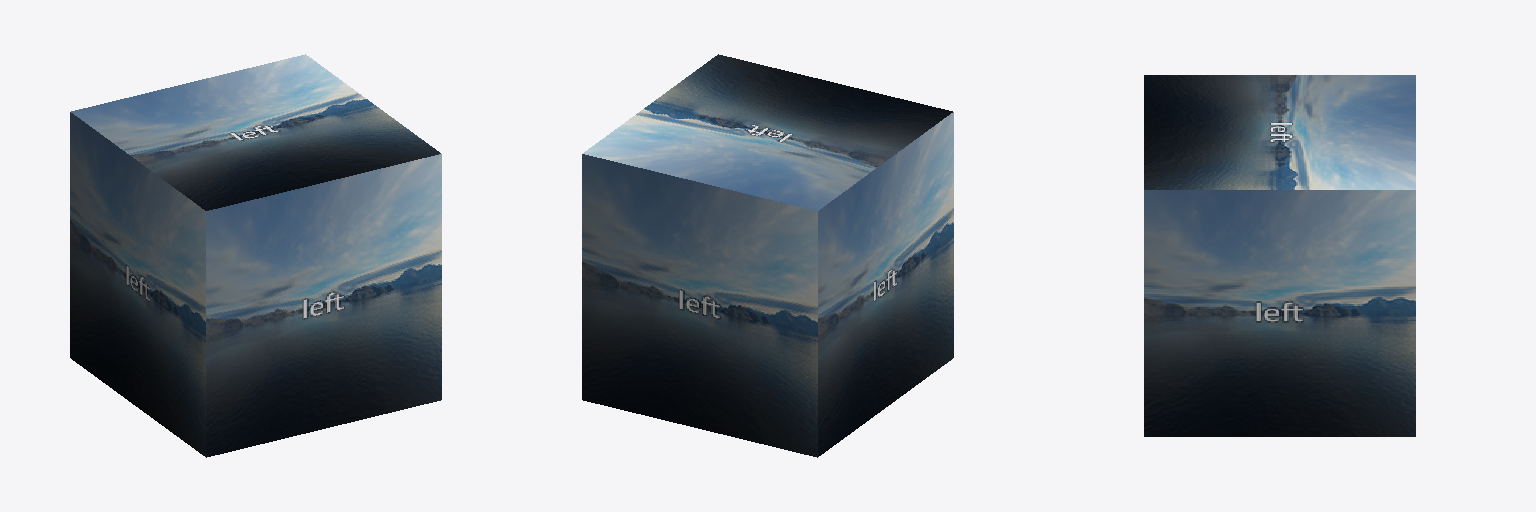
3 renders of one model, left to right at view 1: azimuth 30°, elevation 25°; view 2: azimuth 150°, elevation 25°; view 3: azimuth 270°, elevation 25°, orthographic.
Parts seen in each view (by area): view 1: cube; view 2: cube; view 3: cube.
Part boxes in pixels (x1,y1,x2,y2): cube: (70, 54, 441, 457); cube: (582, 54, 953, 457); cube: (1144, 75, 1415, 436).
Bounding box in the file's own units: 1 × 1 × 1.
6 materials, 1 textured.